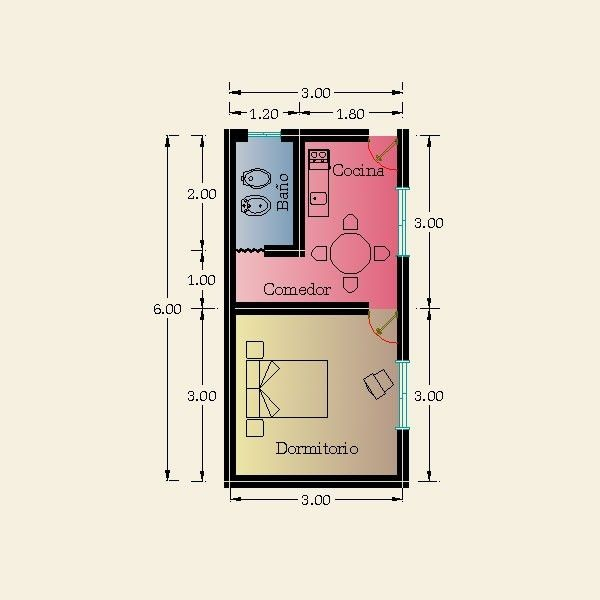door: (362, 126, 407, 175), (362, 298, 396, 346)
room: (229, 306, 405, 488), (299, 129, 405, 255), (230, 248, 405, 305), (226, 128, 304, 255)
wall: (213, 116, 245, 490), (220, 296, 368, 334), (218, 467, 420, 494), (387, 256, 422, 361), (287, 118, 312, 255), (279, 122, 371, 148), (385, 428, 420, 490), (264, 226, 309, 265), (393, 125, 414, 187)
window: (389, 186, 416, 255), (391, 361, 415, 432), (247, 121, 282, 146)
